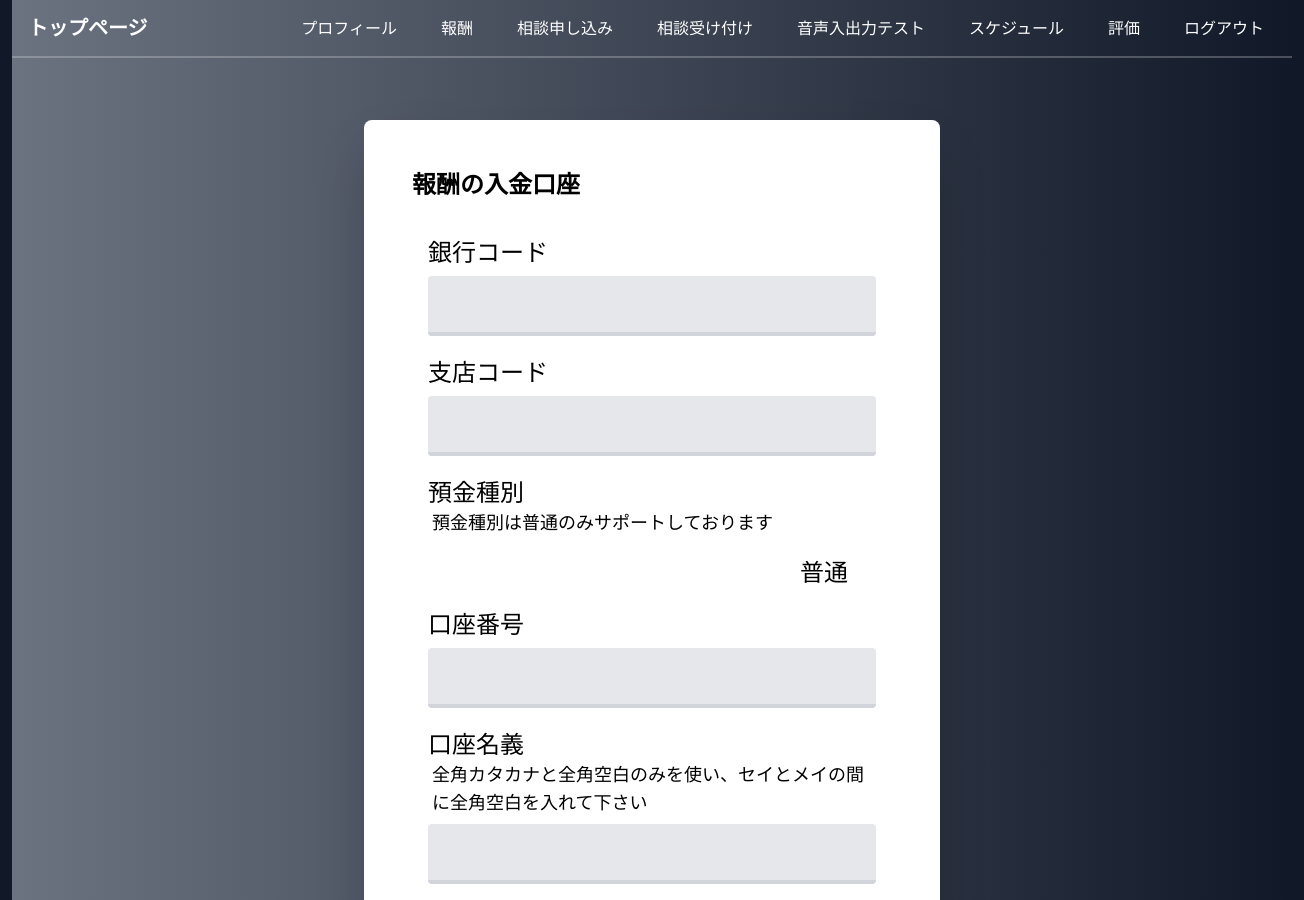
Scenario: BankAccountPage.vue › displays AlertMessage when error has happened on postBankAccount
Type "0001" into the field named "半角数字4桁でご入力下さい。". click: [652, 312]
box: [428, 288, 876, 336]
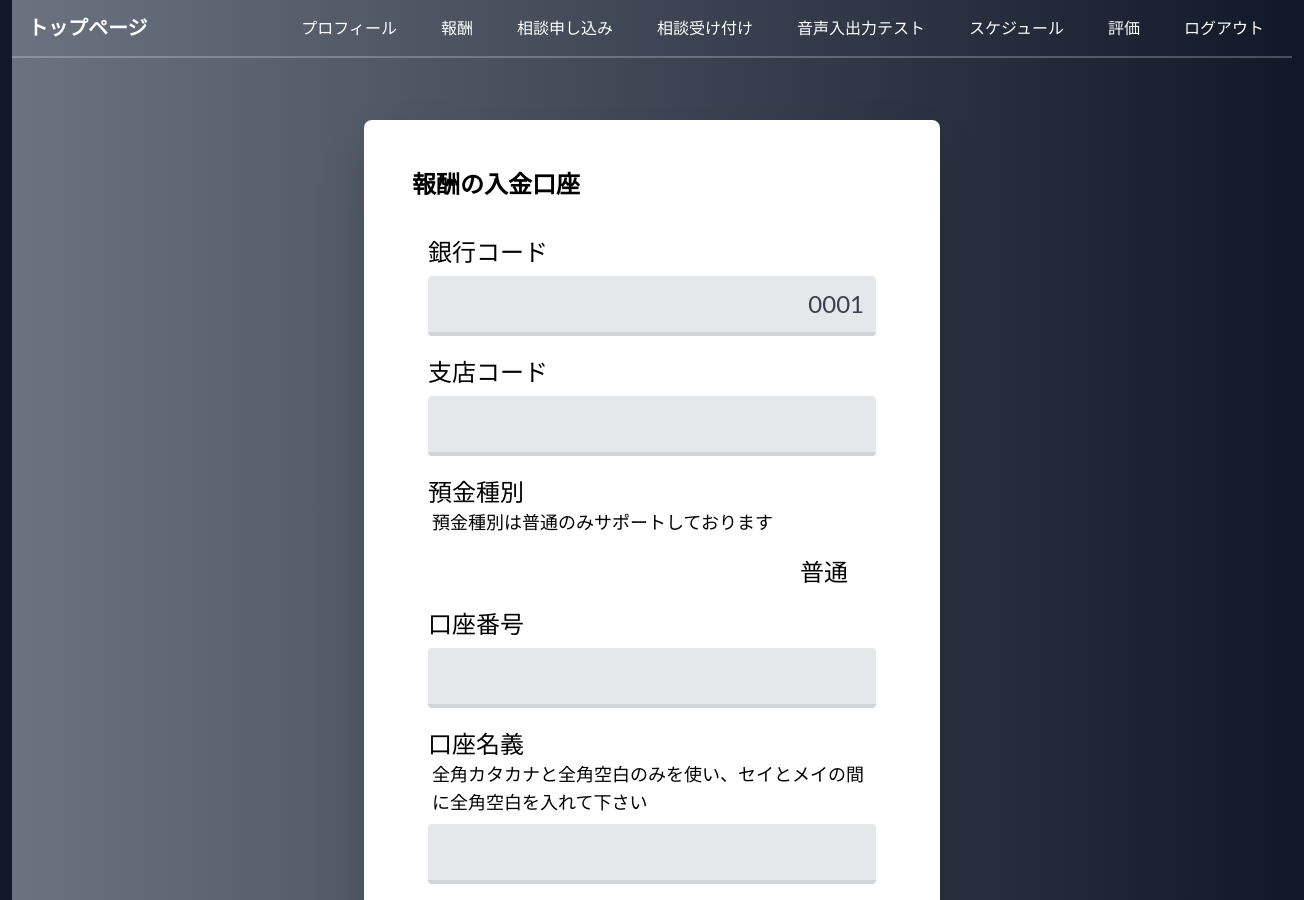
Type "001" into the field named "半角数字3桁でご入力下さい。". click: [652, 432]
box: [428, 408, 876, 456]
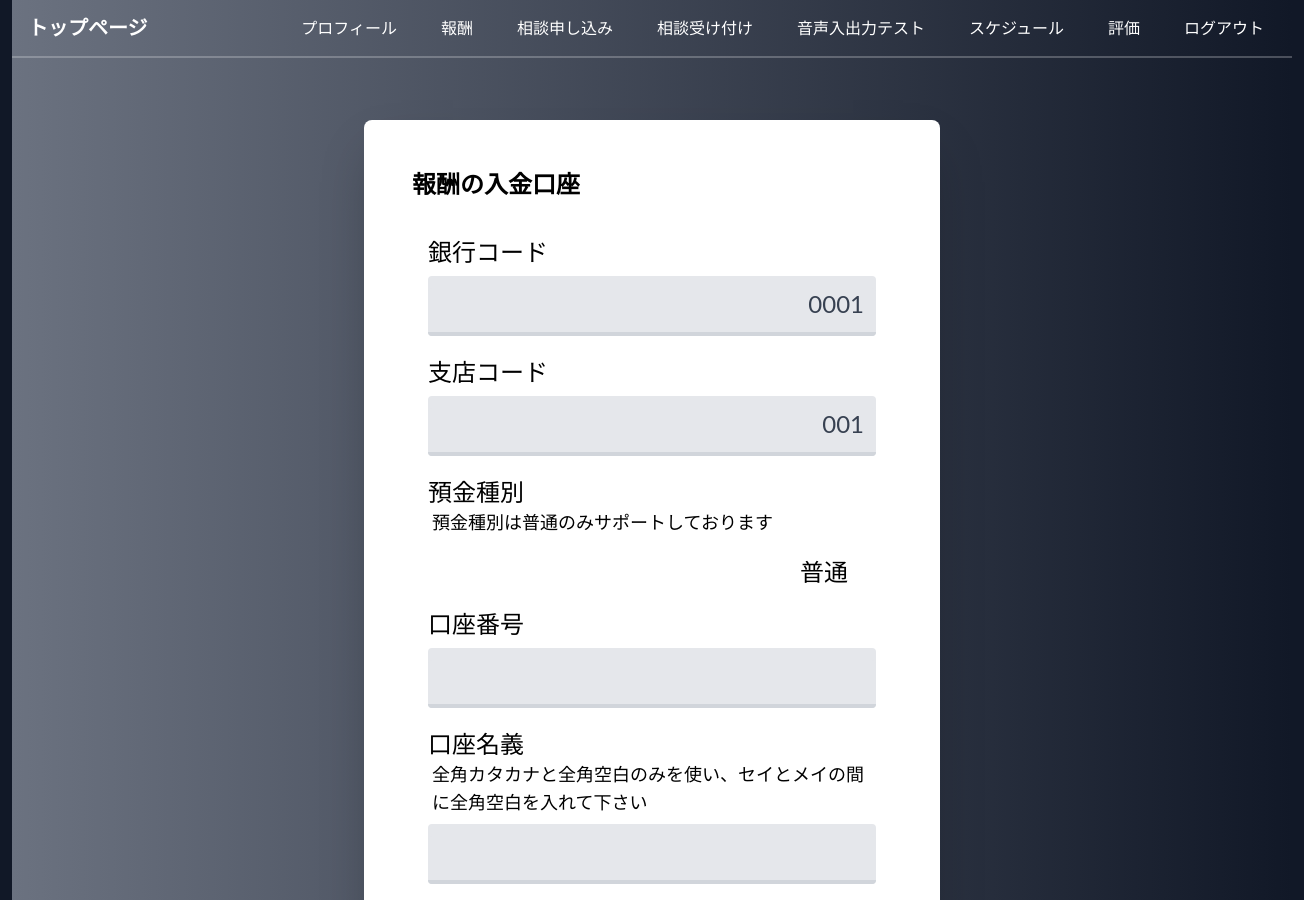
Type "1234567" into the field named "半角数字7桁または8桁でご入力下さい。". click: [652, 684]
box: [428, 660, 876, 708]
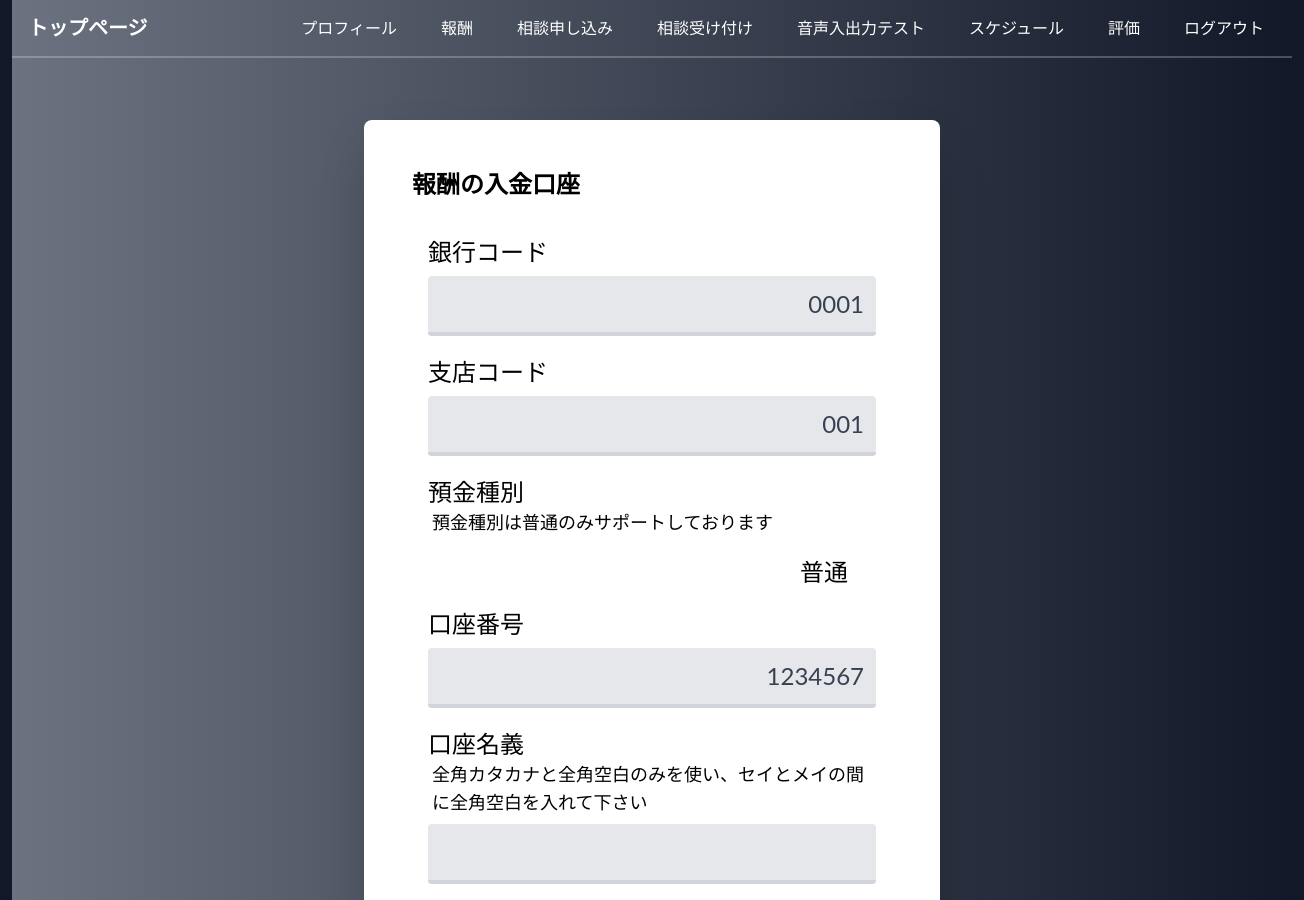
Type "タナカ　タロウ" into the field named "全角カタカナと全角空白のみで、3文字以上129文字以内でご入力下さい。". click: [652, 860]
box: [428, 836, 876, 884]
(page scrolled)
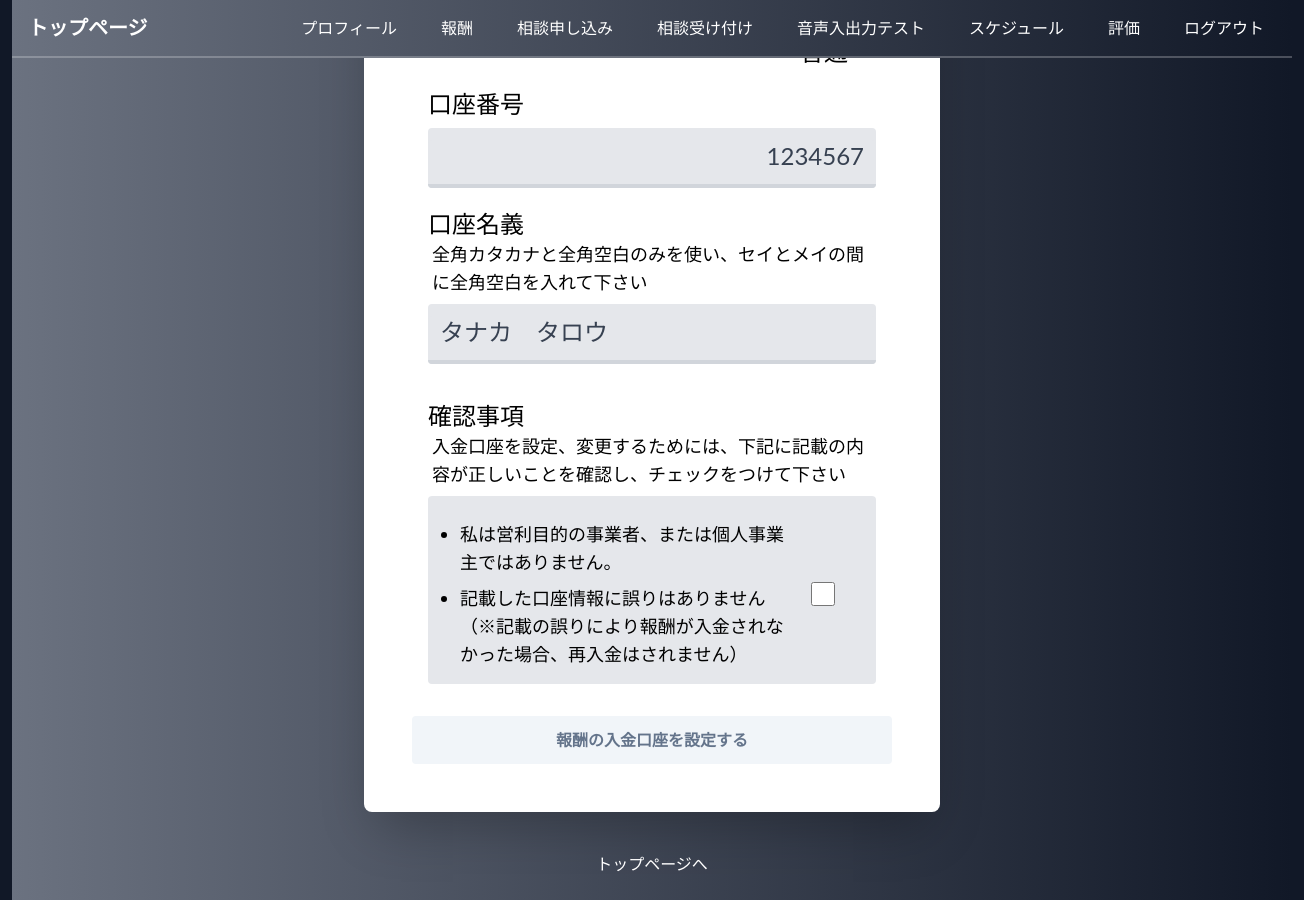
Click the checkbox with test id "no-profit-objective-check". click: [823, 594]
box: [811, 582, 835, 606]
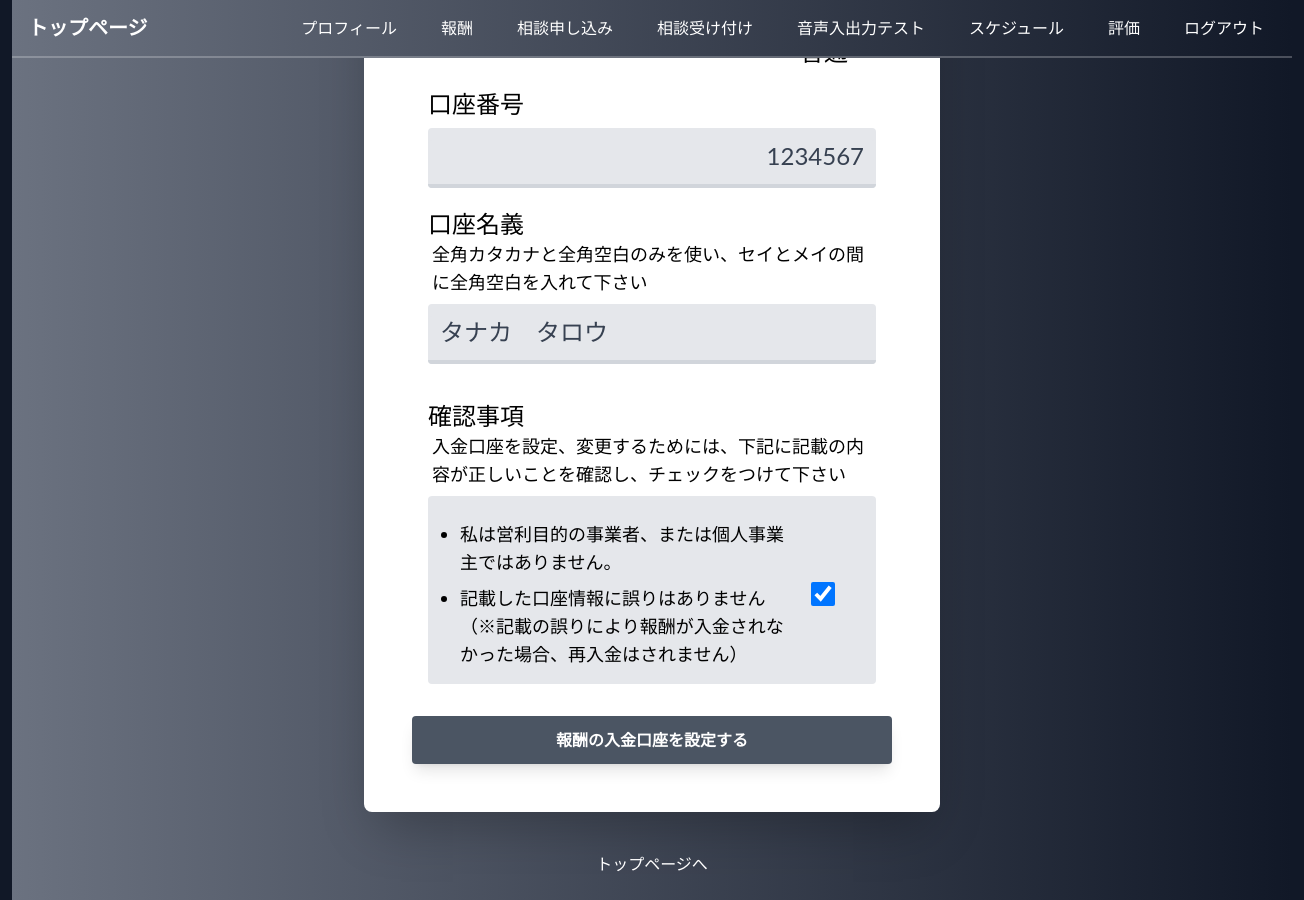
Submit the form from the button with test id "submit-button", box [412, 716, 892, 764]
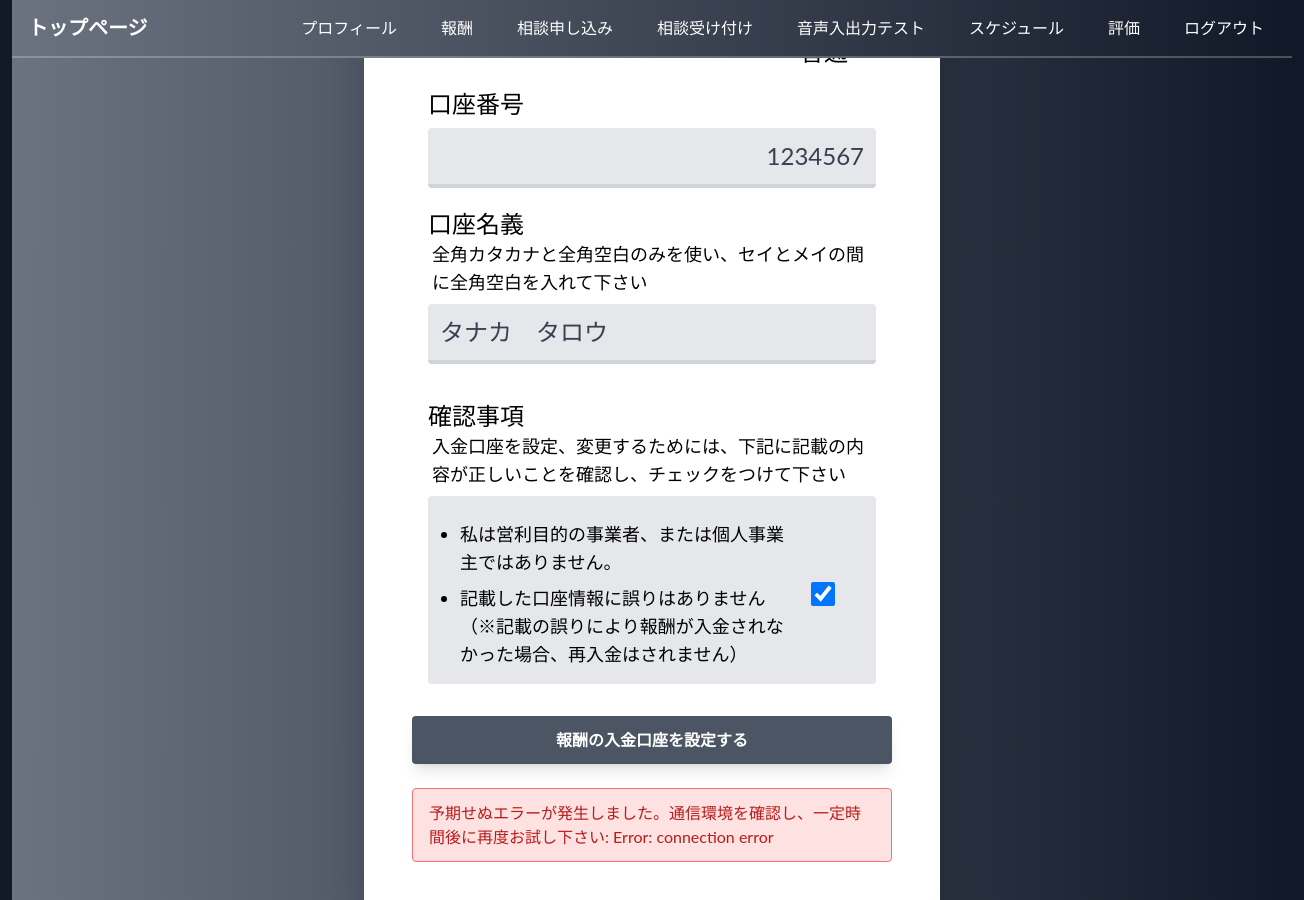
Now the number of "AlertMessage" components is 1, box [412, 788, 892, 862]
Now the message "予期せぬエラーが発生しました。通信環境を確認し、一定時間後に再度お試し下さい: Error: connection error" is shown, box [412, 788, 892, 862]
